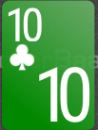Clover: (9, 44, 35, 71)
